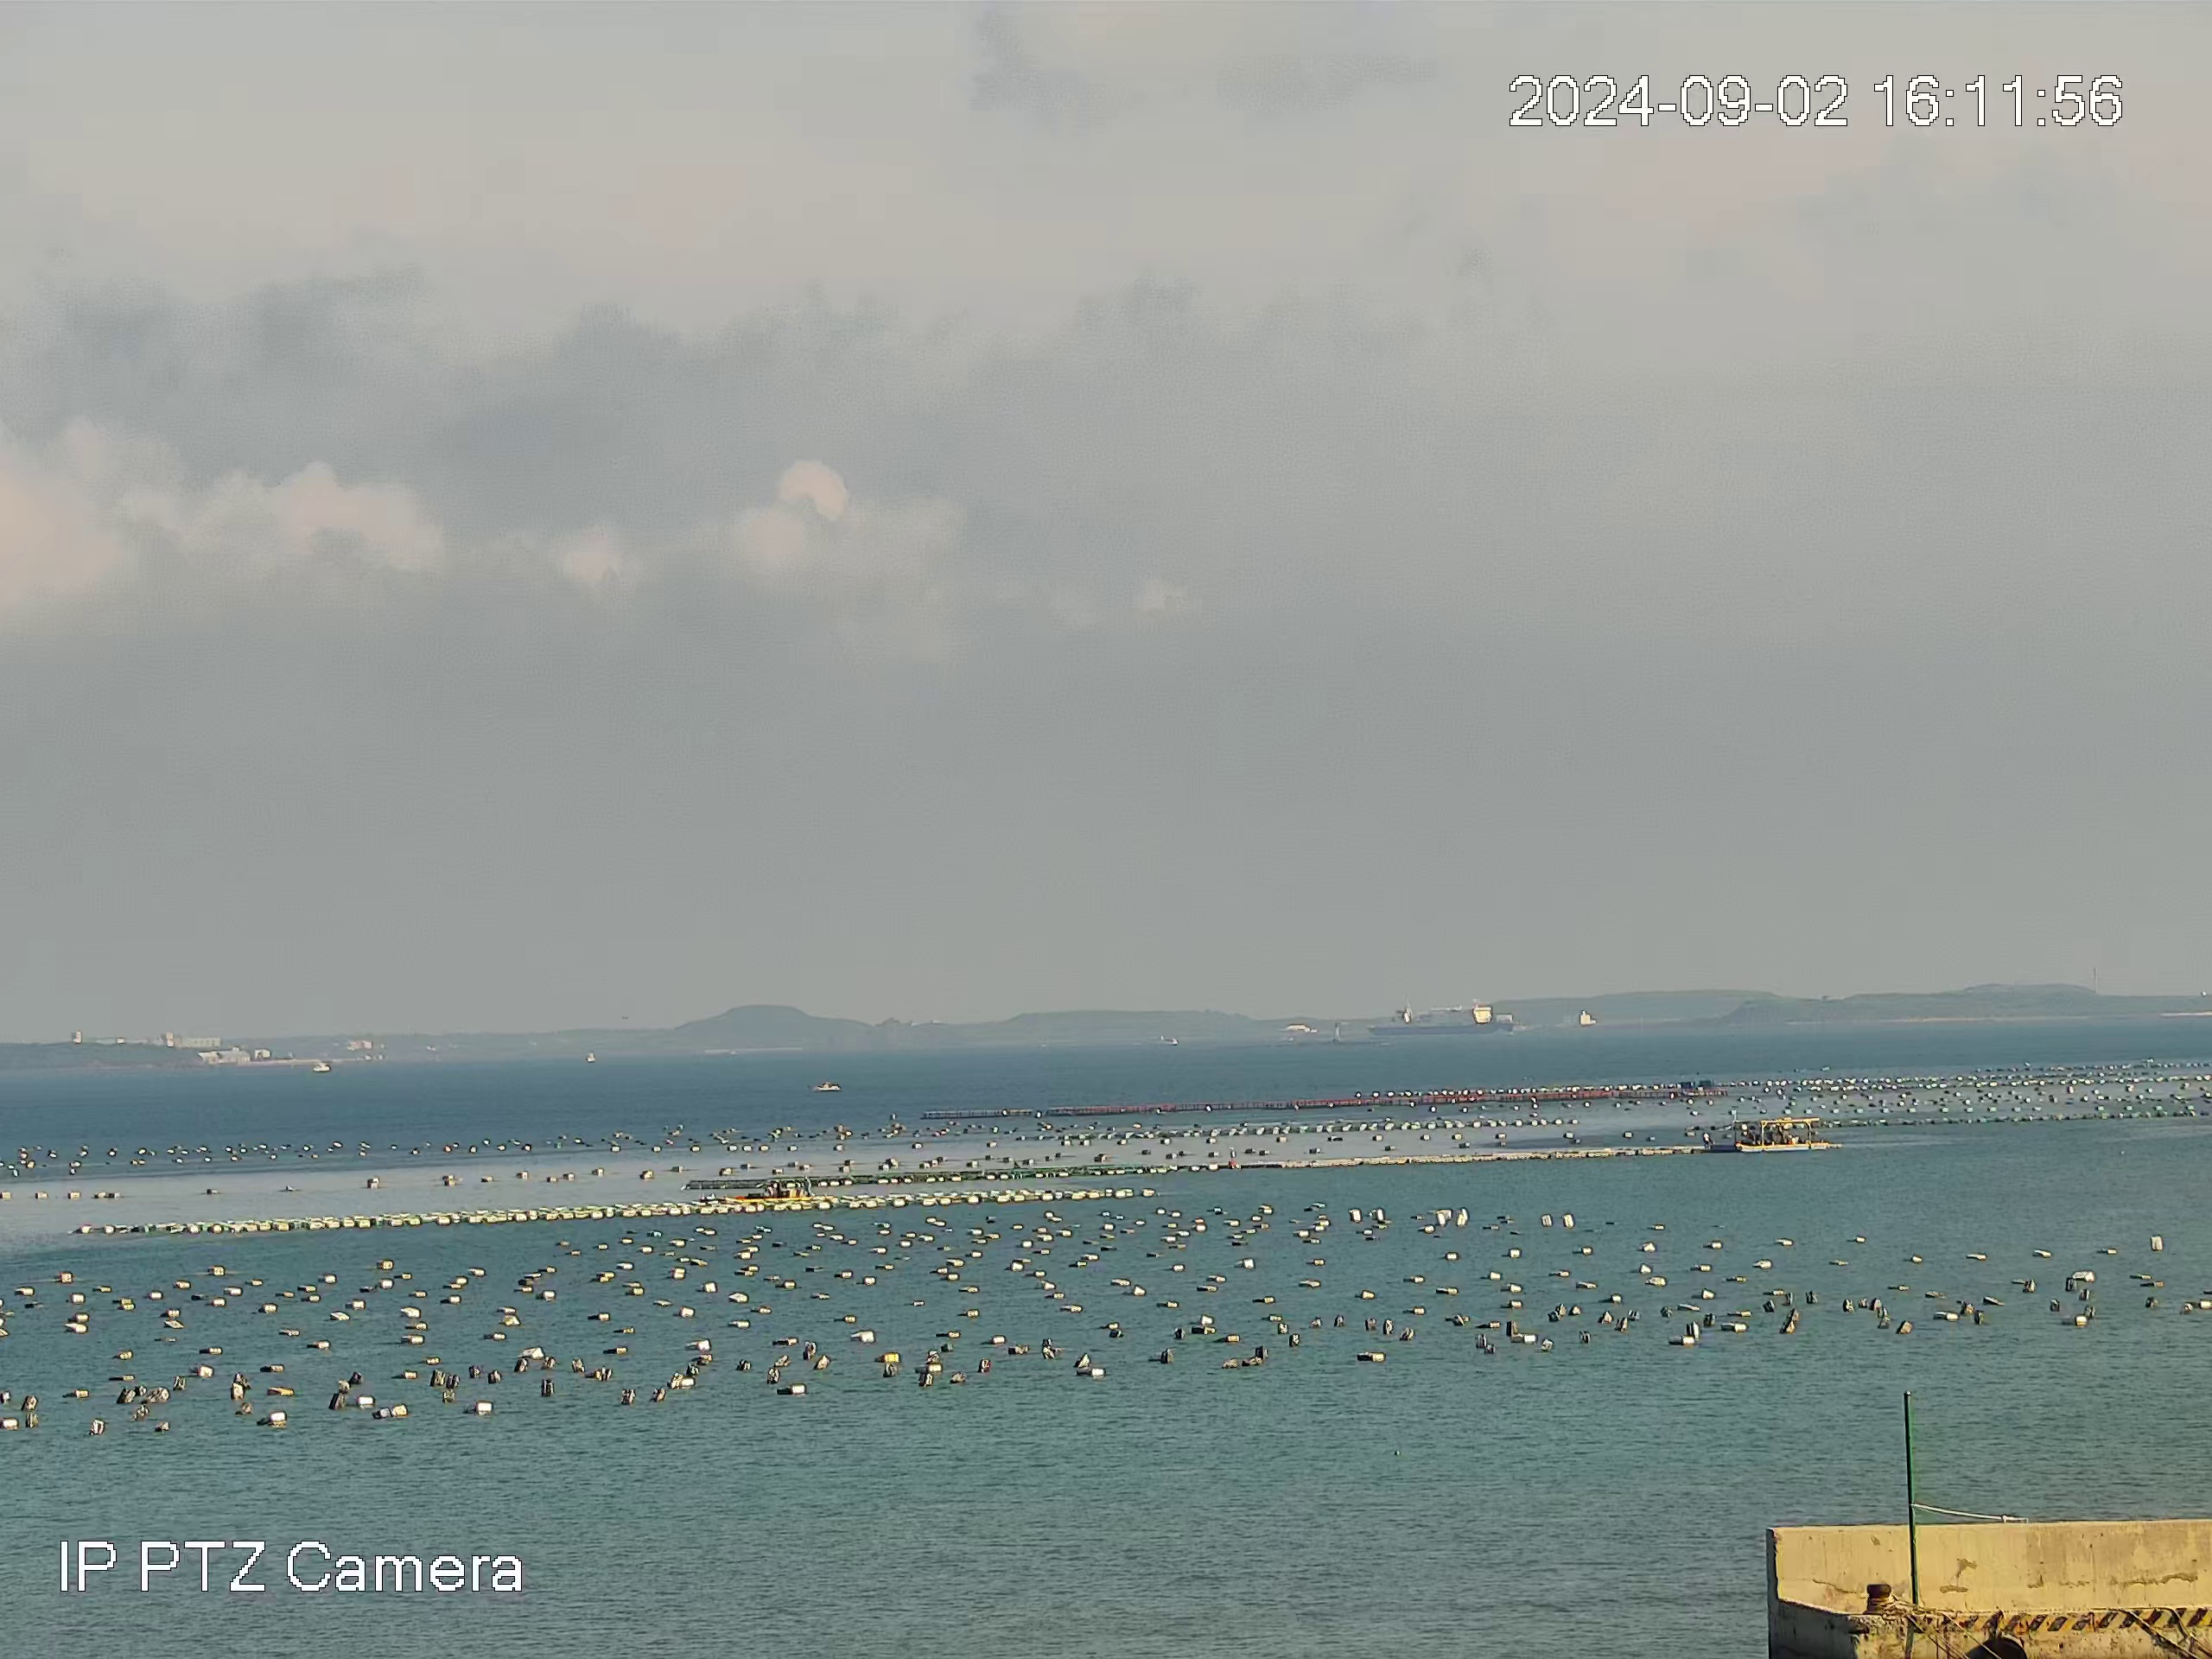boat: (1364, 1005, 1517, 1036), (1732, 1116, 1831, 1154), (723, 1174, 816, 1203), (810, 1080, 843, 1094)
